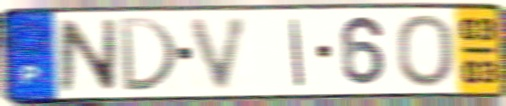6: (339, 14, 389, 88)
D: (116, 15, 181, 94)
I: (287, 17, 307, 89)
N: (56, 17, 119, 94)
O: (392, 12, 456, 90)
V: (186, 14, 255, 93)
